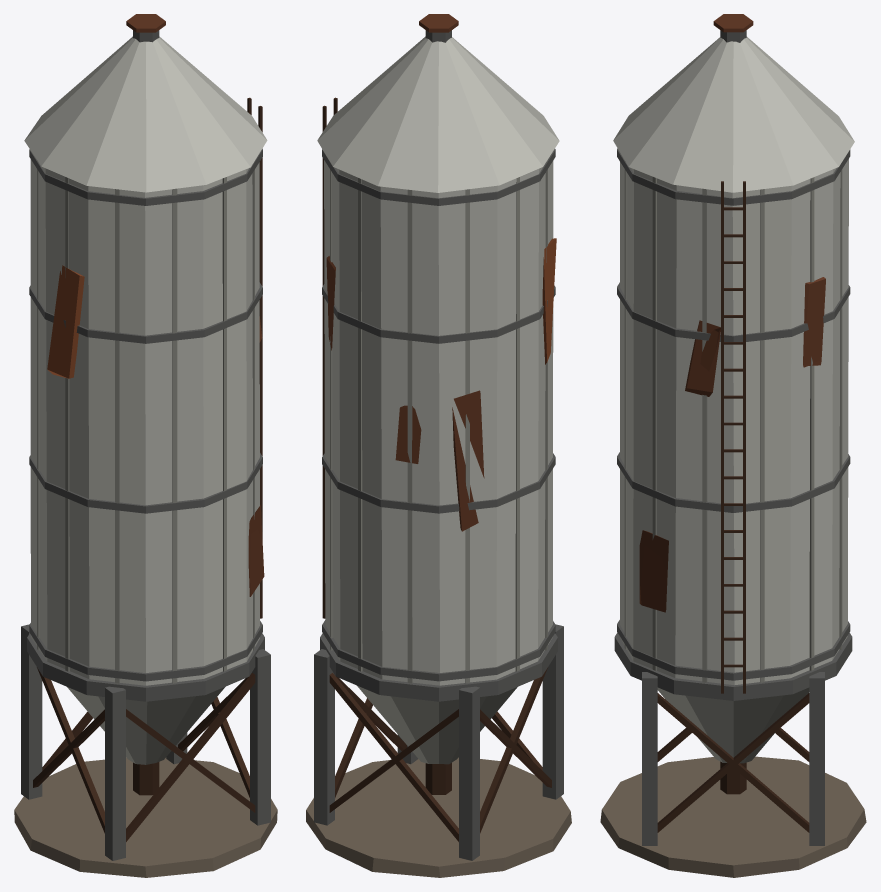
File: grain_silo.glb
The picture shows the model from 3 angles, left to right: view 1: azimuth 30°, elevation 25°; view 2: azimuth 150°, elevation 25°; view 3: azimuth 270°, elevation 25°; orthographic projection.
Visible parts, largest first — view 1: grain_silo; view 2: grain_silo; view 3: grain_silo.
Boxes of the visible parts, x1=… form: grain_silo: x1=14, y1=14, x2=277, y2=877; grain_silo: x1=306, y1=14, x2=571, y2=877; grain_silo: x1=600, y1=14, x2=866, y2=877.
Size of the model in its own units: 6.03 by 20.08 by 6.04.
